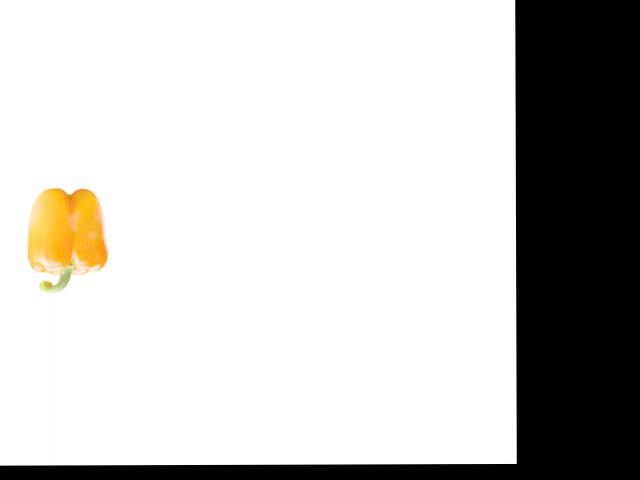bell_pepper: (18, 187, 116, 293)
